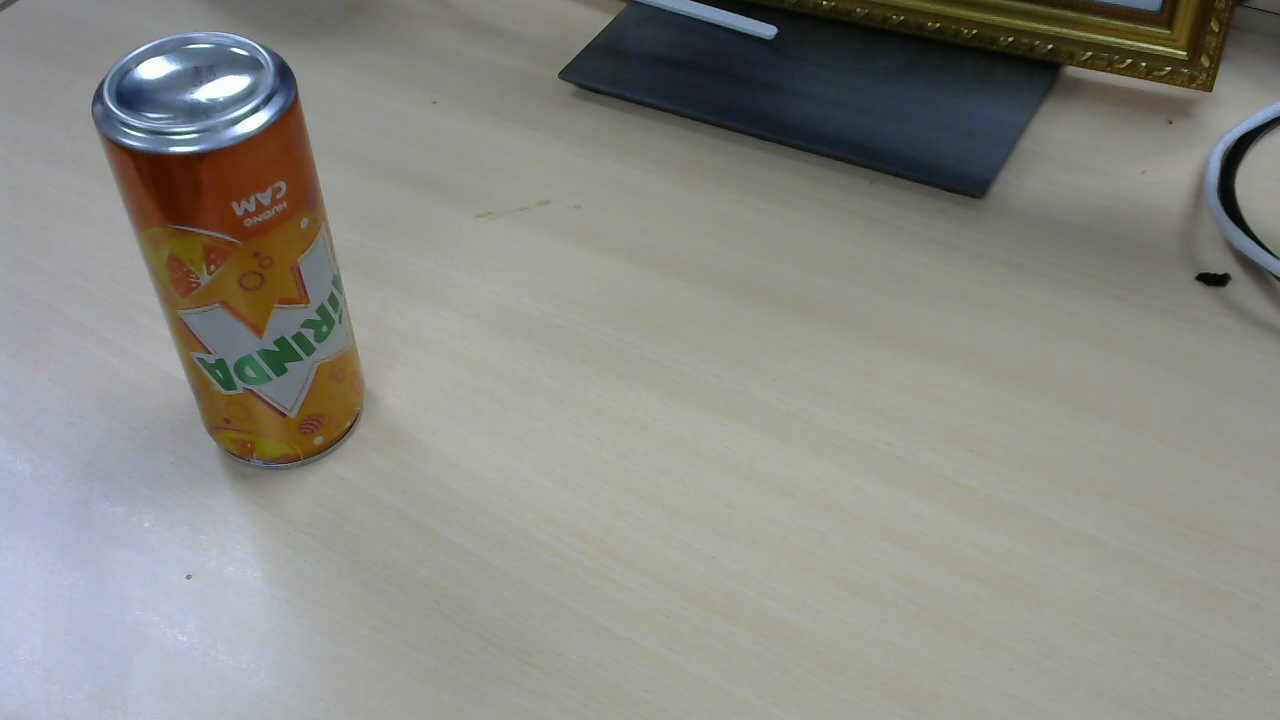Mirinda: (96, 39, 374, 476)
